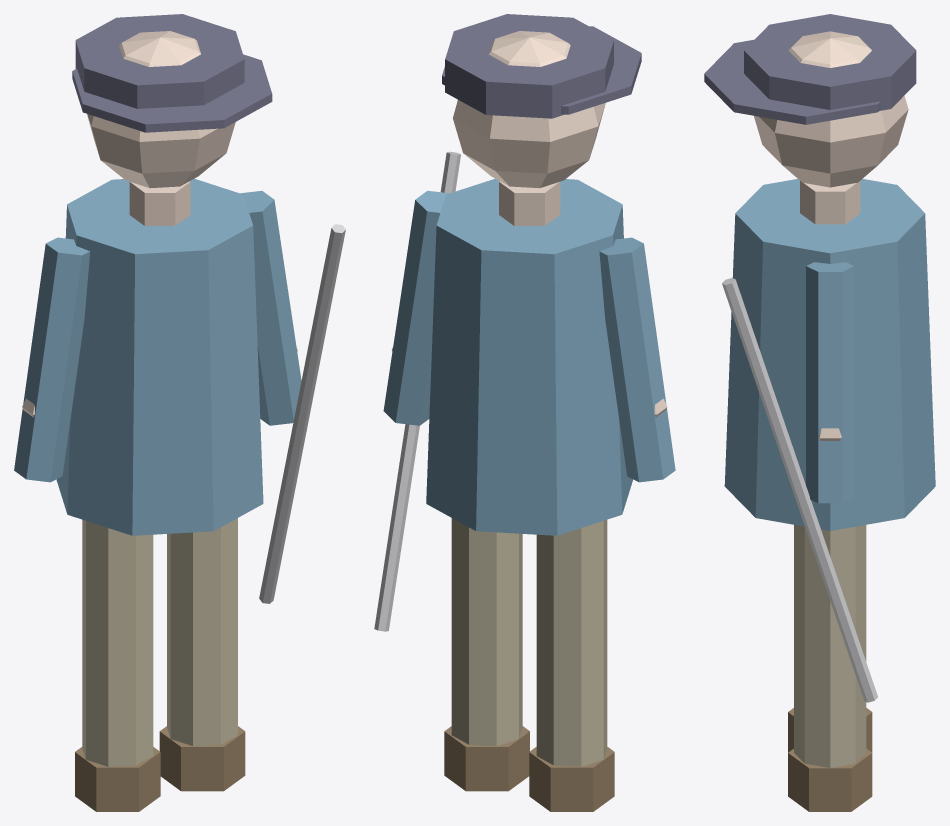
Rendered from golfer_male.glb.
3 renders of one model, left to right at view 1: azimuth 30°, elevation 25°; view 2: azimuth 150°, elevation 25°; view 3: azimuth 270°, elevation 25°, orthographic.
Visible parts, largest first — view 1: GolferMale; view 2: GolferMale; view 3: GolferMale.
Part boxes in pixels (x1,y1,x2,y2): GolferMale: (14,14,345,811); GolferMale: (374,14,675,811); GolferMale: (704,14,935,811).
Bounding box in the file's own units: 0.5283 × 1.35 × 0.384.
